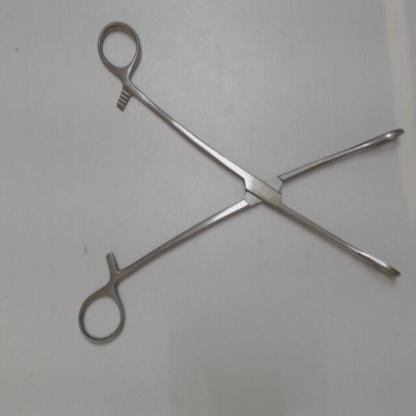Sponge Forceps: (76, 14, 407, 349)
